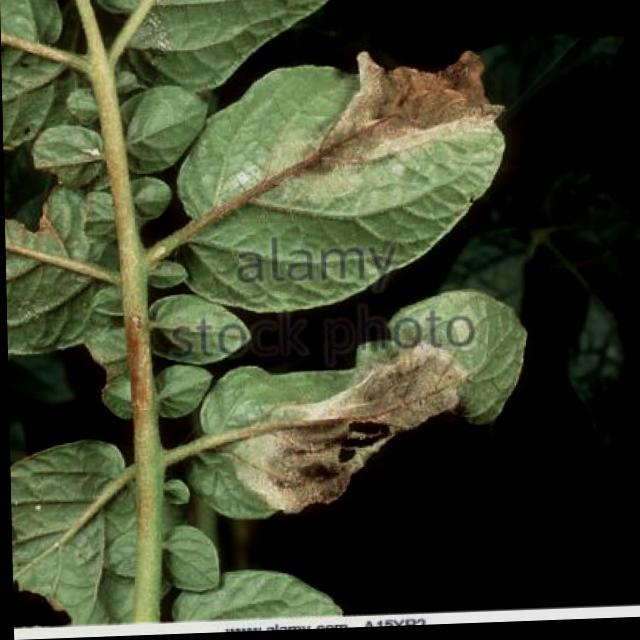Tomato mosaic virus leaf: (172, 43, 524, 320), (170, 284, 540, 526)
